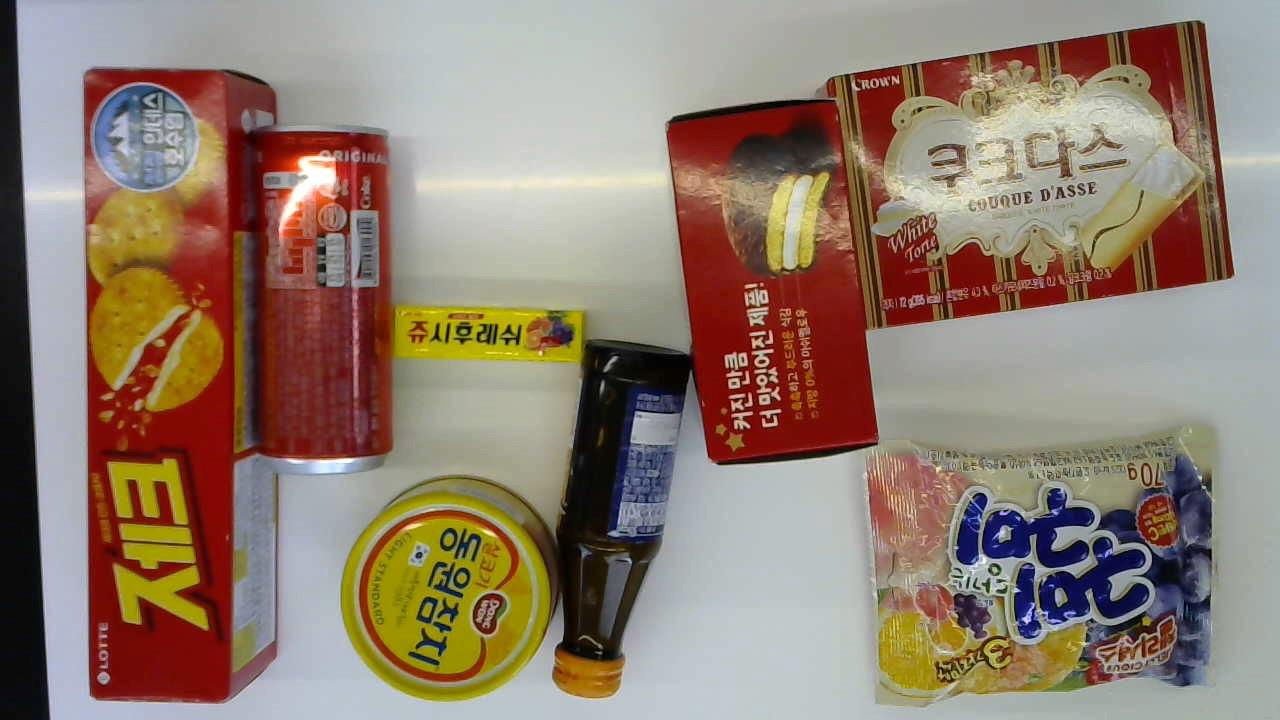chocopie: (661, 100, 876, 465)
coke: (253, 128, 393, 473)
couque_white: (826, 16, 1233, 328)
gumi_gumi: (869, 415, 1221, 704)
juicyfresh: (390, 303, 587, 357)
tuna: (344, 480, 555, 699)
vita500: (551, 335, 683, 701)
zec: (78, 66, 276, 696)
